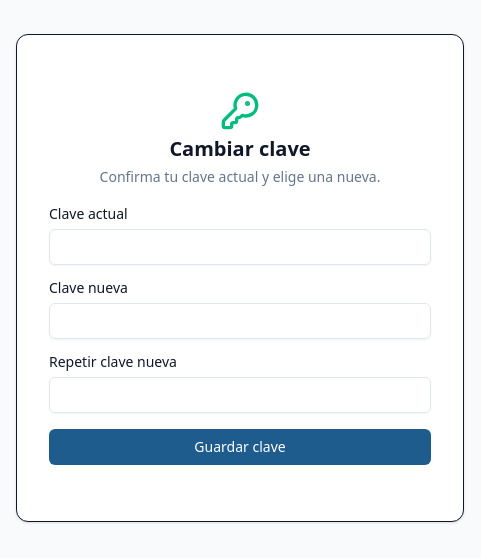
Test: CambiarClavePage › updateUser con same_password: muestra el texto de "distinta de la actual"
In the password field labelled "Clave actual": (240, 247) [49, 229, 431, 265], type "actual-123"
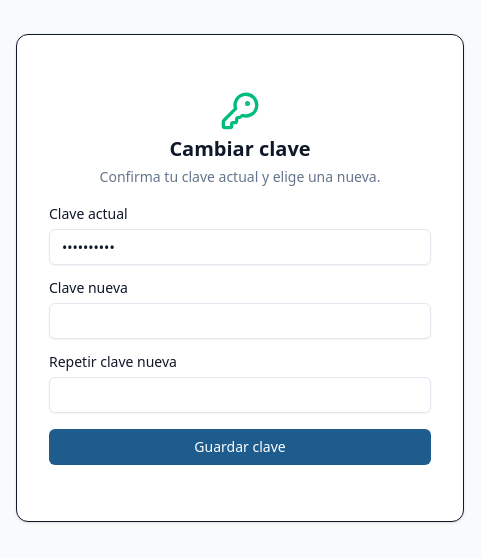
In the password field labelled "Clave nueva": (240, 321) [49, 303, 431, 339], type "nueva-1234"
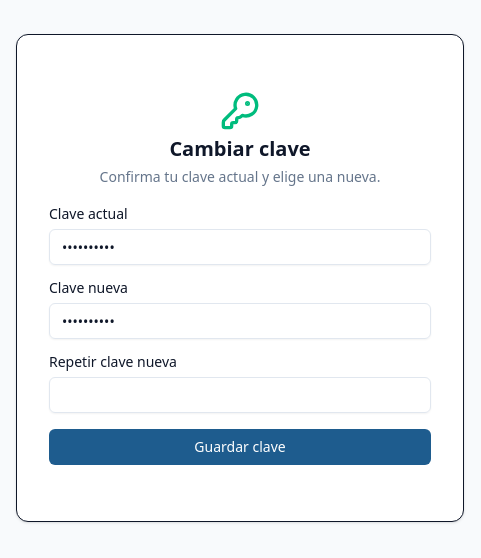
In the password field labelled "Repetir clave nueva": (240, 395) [49, 377, 431, 413], type "nueva-1234"
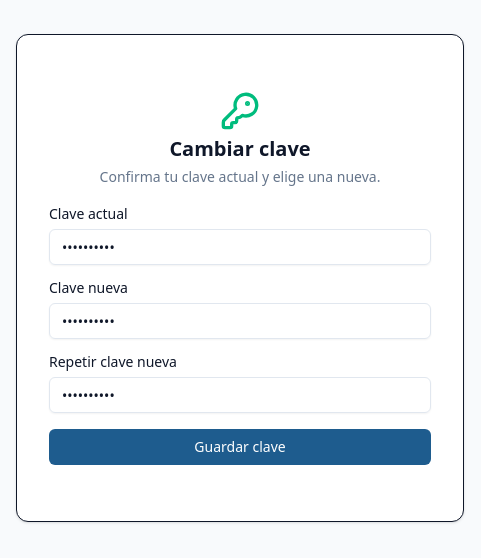
Click the button "Guardar clave": (240, 447) [49, 429, 431, 465]
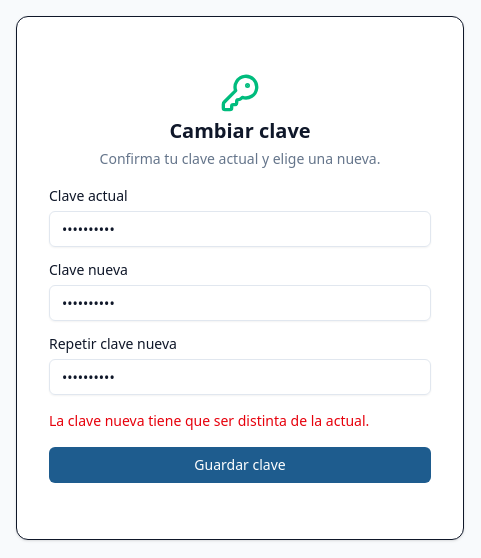
Result: the message reads "La clave nueva tiene que ser distinta de la actual." at [49, 411, 369, 430]
